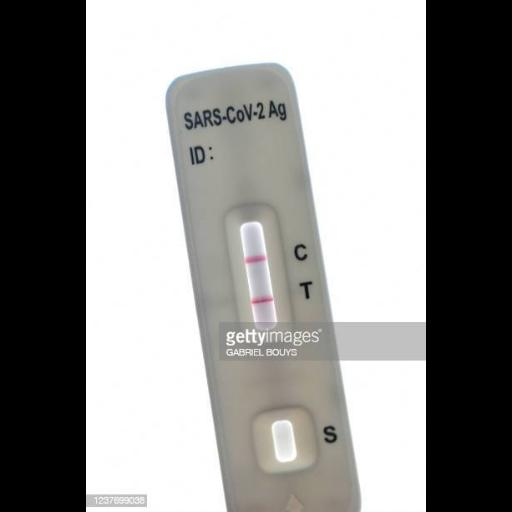Pos: (163, 59, 358, 504)
